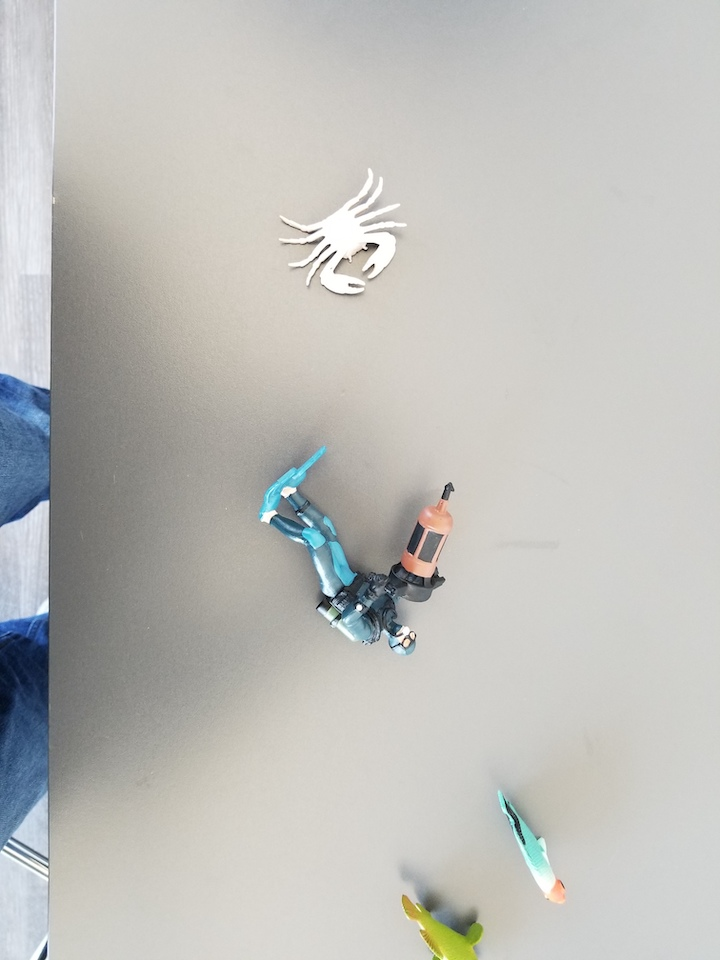crab: (276, 165, 414, 299)
diver: (258, 444, 461, 663)
fish: (493, 787, 573, 912), (398, 892, 491, 960)
